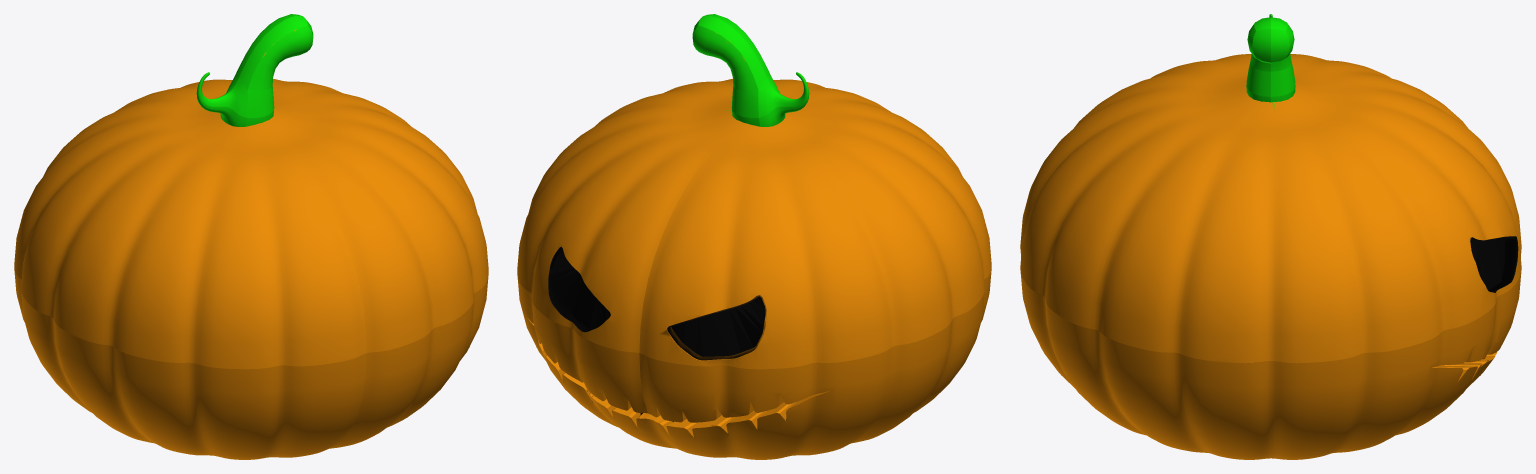
File: Pumpkin.obj
3 renders of one model, left to right at view 1: azimuth 30°, elevation 25°; view 2: azimuth 150°, elevation 25°; view 3: azimuth 270°, elevation 25°, orthographic. The views are drawn at different scales.
Parts seen in each view (by area): view 1: Pumpkin_Cylinder; view 2: Pumpkin_Cylinder; view 3: Pumpkin_Cylinder.
Part boxes in pixels (x1=…): Pumpkin_Cylinder: x1=14, y1=14, x2=488, y2=459; Pumpkin_Cylinder: x1=517, y1=14, x2=991, y2=459; Pumpkin_Cylinder: x1=1020, y1=14, x2=1521, y2=459.
Bounding box in the file's own units: 2.21 × 1.94 × 2.21.
1 material, 1 textured.
